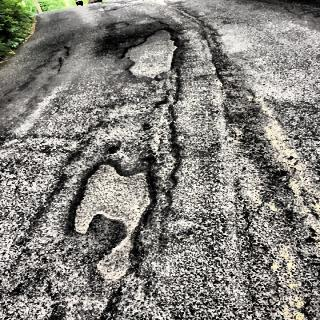pothole: (66, 157, 161, 288), (123, 20, 185, 84)
